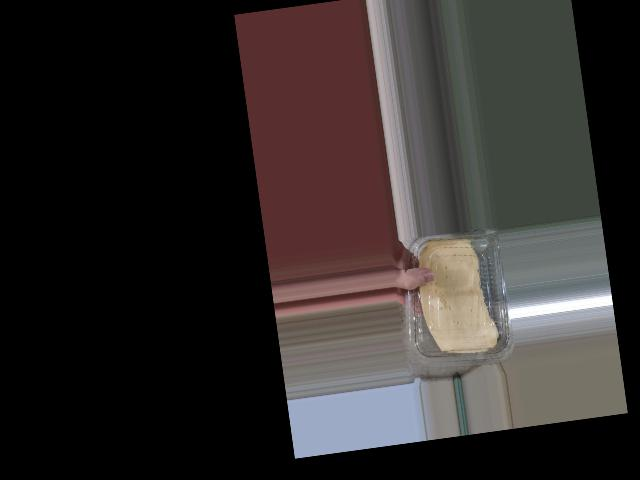cheese: (405, 225, 516, 372)
